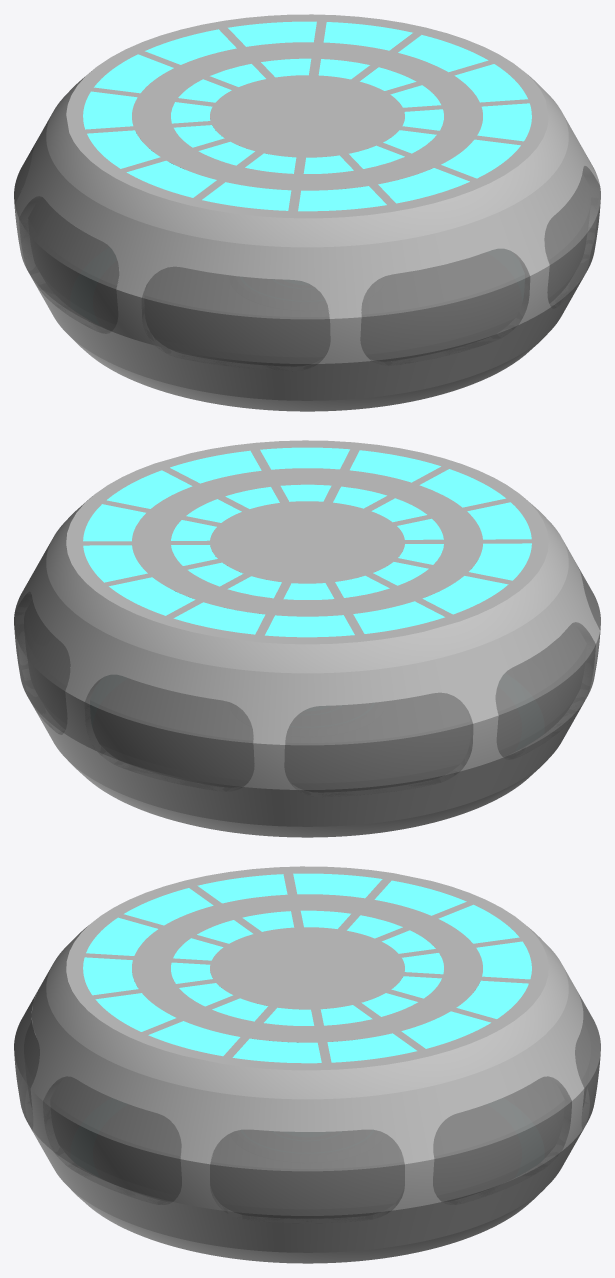
The model's file is environment test.fbx.
3 renders of one model, top to bottom at view 1: azimuth 30°, elevation 25°; view 2: azimuth 150°, elevation 25°; view 3: azimuth 270°, elevation 25°, orthographic.
Parts seen in each view (by area): view 1: outer ring, windows, GLOW; view 2: outer ring, windows, GLOW; view 3: outer ring, windows, GLOW.
Boxes of the visible parts, x1=… form: outer ring: x1=15, y1=14, x2=599, y2=411; windows: x1=14, y1=141, x2=600, y2=371; GLOW: x1=83, y1=21, x2=531, y2=211; outer ring: x1=15, y1=440, x2=599, y2=837; windows: x1=14, y1=560, x2=600, y2=796; GLOW: x1=83, y1=447, x2=531, y2=637; outer ring: x1=25, y1=866, x2=589, y2=1263; windows: x1=14, y1=992, x2=600, y2=1223; GLOW: x1=83, y1=873, x2=531, y2=1063.
Bounding box in the file's own units: 60.16 × 60.16 × 22.
